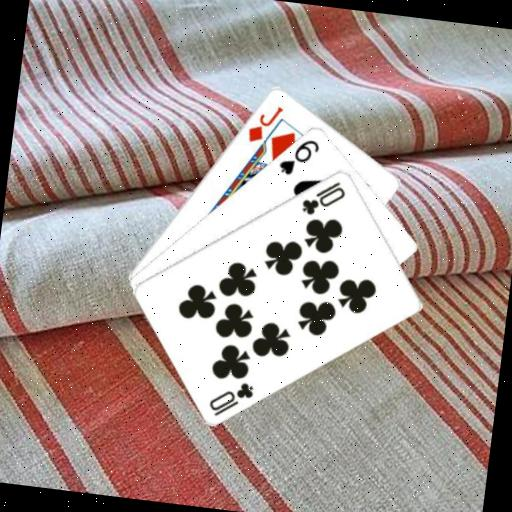10C: (205, 375, 257, 422), (298, 174, 349, 220)
6S: (275, 133, 322, 180)
JD: (244, 99, 286, 147)
